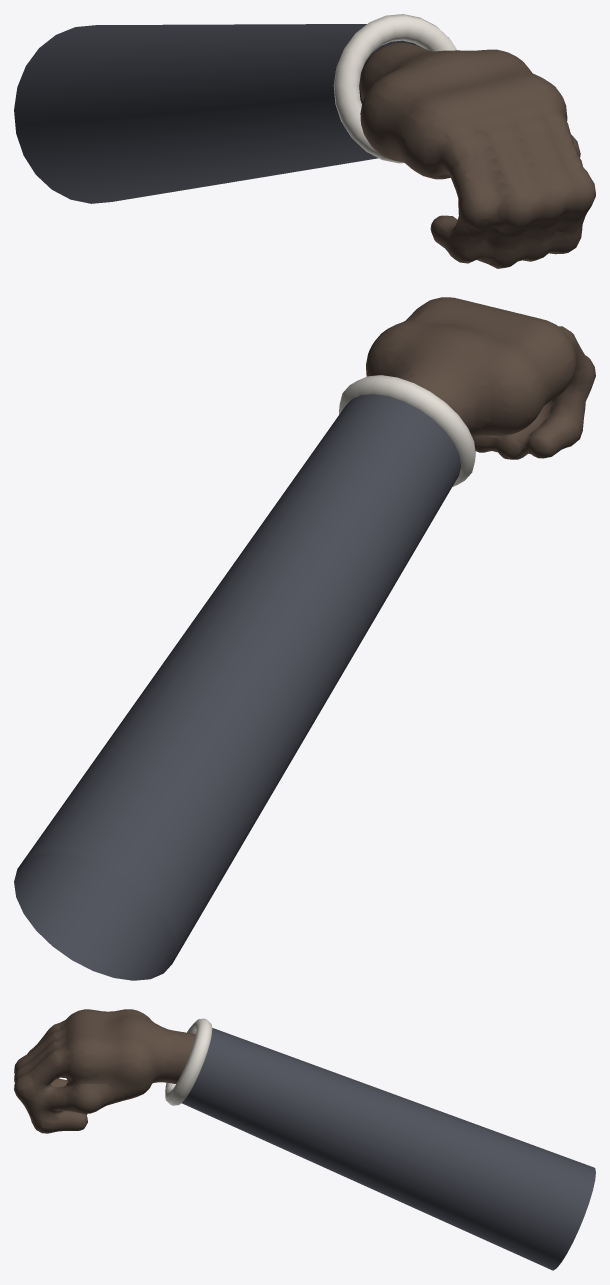
Rendered from fp_arm_left.fbx.
3 views of the same model, one above another, from view 1: azimuth 30°, elevation 25°; view 2: azimuth 150°, elevation 25°; view 3: azimuth 270°, elevation 25° (orthographic). The views are drawn at different scales.
Visible parts, largest first — view 1: FPL_Sleeve, FPL_Glove, FPL_SleeveCuff; view 2: FPL_Sleeve, FPL_Glove, FPL_SleeveCuff; view 3: FPL_Sleeve, FPL_Glove, FPL_SleeveCuff.
Part boxes in pixels (x1=…): FPL_Sleeve: x1=14, y1=24, x2=422, y2=203; FPL_Glove: x1=359, y1=43, x2=595, y2=268; FPL_SleeveCuff: x1=333, y1=14, x2=456, y2=163; FPL_Sleeve: x1=14, y1=394, x2=461, y2=980; FPL_Glove: x1=366, y1=297, x2=595, y2=459; FPL_SleeveCuff: x1=339, y1=375, x2=475, y2=486; FPL_Sleeve: x1=182, y1=1028, x2=595, y2=1270; FPL_Glove: x1=14, y1=1009, x2=195, y2=1133; FPL_SleeveCuff: x1=165, y1=1018, x2=212, y2=1105.
Bounding box in the file's own units: 0.1073 × 0.226 × 0.4889.
